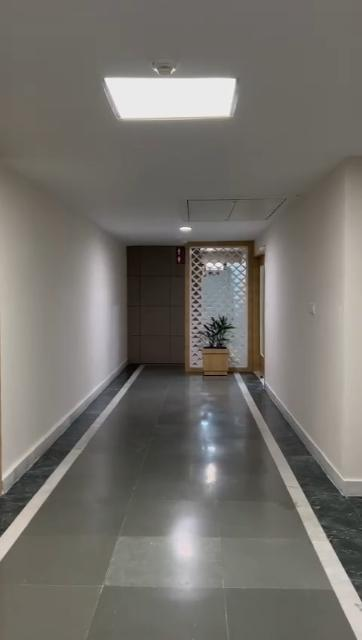floor: (2, 363, 362, 640)
object: (198, 314, 238, 382)
wall: (0, 162, 130, 473), (263, 159, 362, 473)
